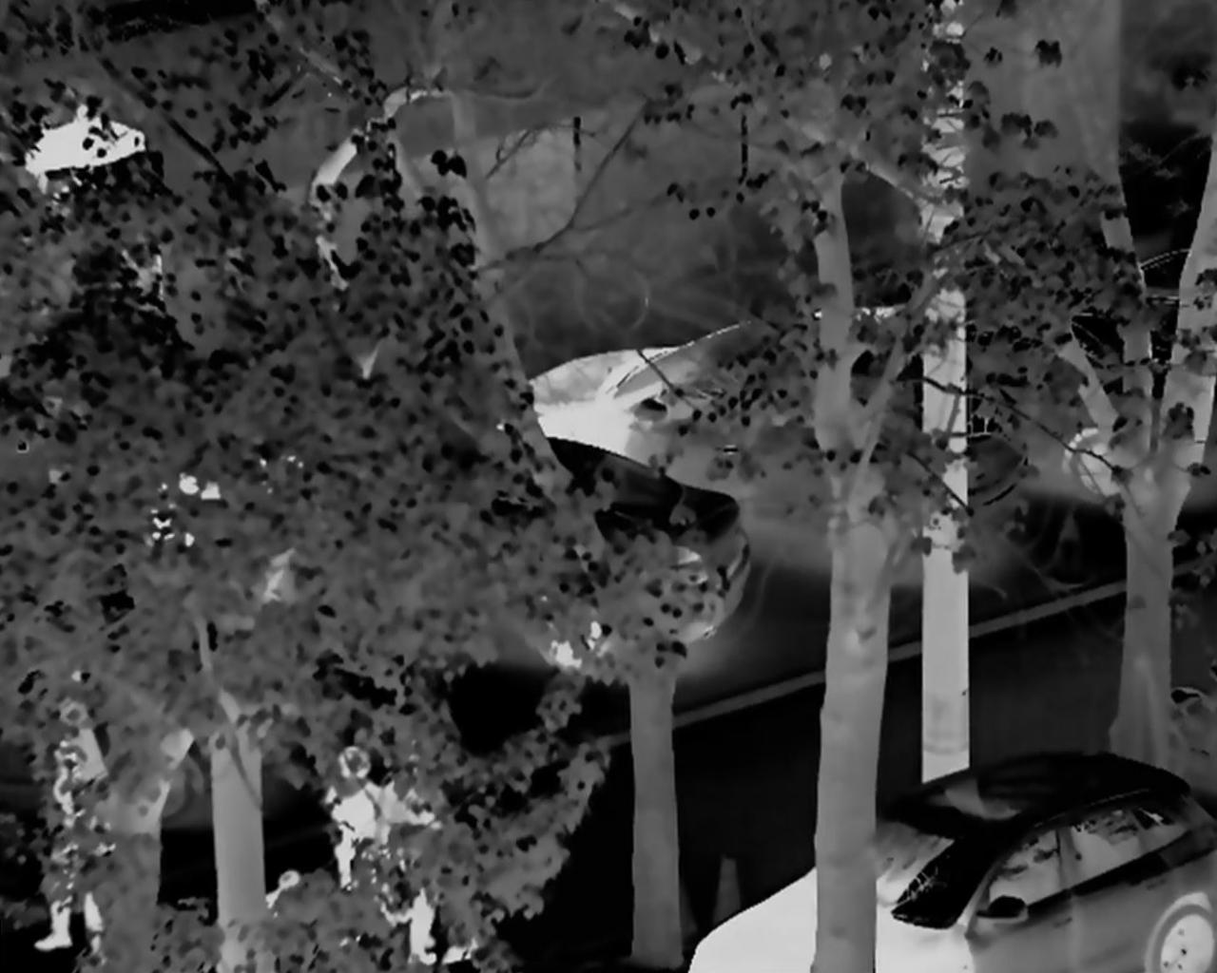person: (38, 694, 119, 957), (387, 755, 482, 973), (320, 748, 404, 968)
